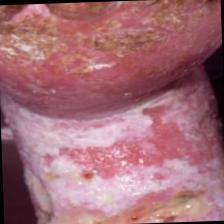wound-ulser: (51, 171, 212, 224)
